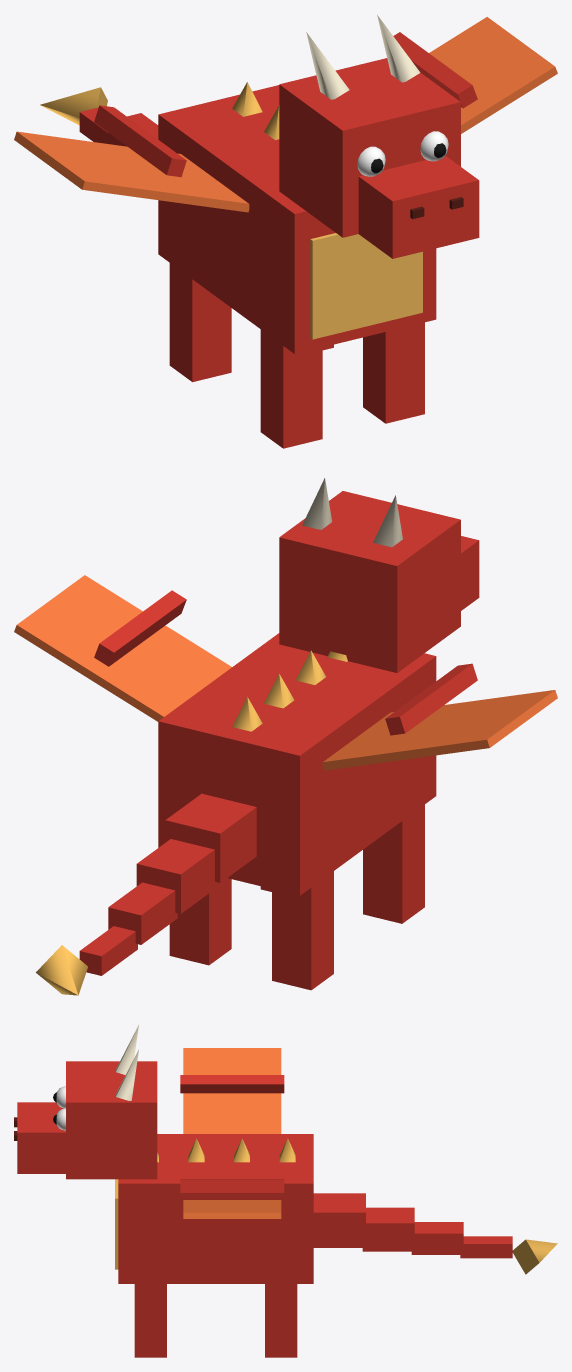
File: pet_dragon.glb
3 renders of one model, top to bottom at view 1: azimuth 30°, elevation 25°; view 2: azimuth 150°, elevation 25°; view 3: azimuth 270°, elevation 25°, orthographic. The views are drawn at different scales.
Visible parts, largest first — view 1: pet_dragon, head, wing_R, wing_L, tail; view 2: pet_dragon, head, wing_L, tail, wing_R; view 3: pet_dragon, head, tail, wing_R, wing_L.
Boxes of the visible parts, x1=… form: pet_dragon: x1=158, y1=82, x2=436, y2=448; head: x1=279, y1=14, x2=479, y2=258; wing_R: x1=14, y1=105, x2=249, y2=212; wing_L: x1=393, y1=17, x2=557, y2=133; tail: x1=40, y1=87, x2=158, y2=146; pet_dragon: x1=158, y1=633, x2=436, y2=990; head: x1=279, y1=478, x2=479, y2=672; wing_L: x1=14, y1=575, x2=231, y2=721; tail: x1=36, y1=793, x2=256, y2=995; wing_R: x1=322, y1=663, x2=557, y2=770; pet_dragon: x1=115, y1=1134, x2=313, y2=1357; head: x1=14, y1=1025, x2=157, y2=1179; tail: x1=313, y1=1193, x2=557, y2=1274; wing_R: x1=180, y1=1048, x2=284, y2=1133; wing_L: x1=180, y1=1179, x2=284, y2=1218.
Size of the model in its own units: 1.21 by 0.9925 by 1.67.
